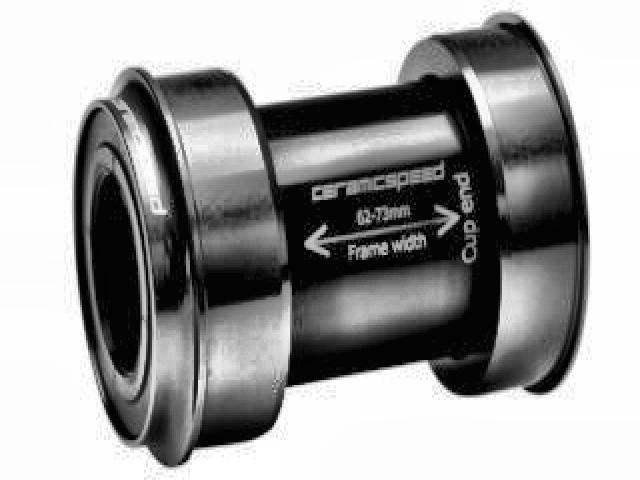bottom_bracket: (72, 7, 592, 469)
